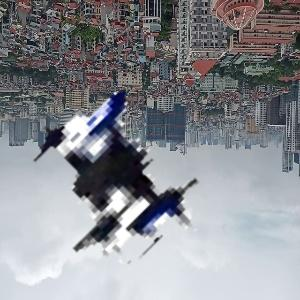drone: (11, 8, 277, 274)
